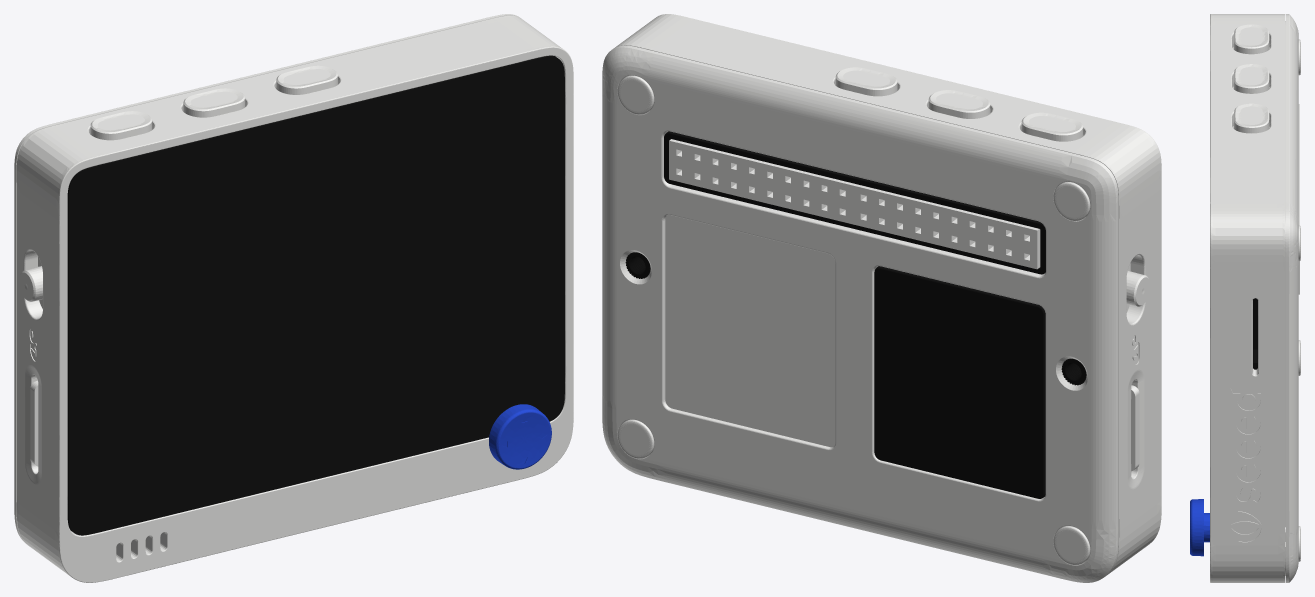
File: wio-terminal.glb
The picture shows the model from 3 angles, left to right: view 1: azimuth 30°, elevation 25°; view 2: azimuth 150°, elevation 25°; view 3: azimuth 270°, elevation 25°; orthographic projection. The views are drawn at different scales.
Size of the model in its own units: 73.01 by 57.83 by 15.35.
